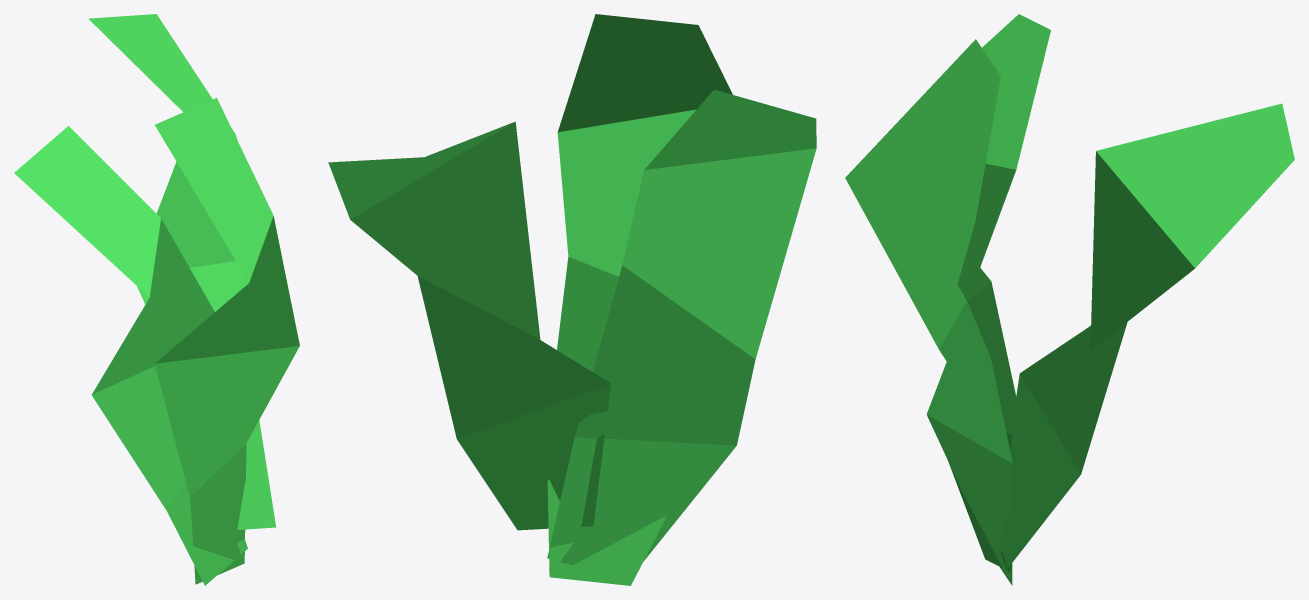
Rendered from Grass1.glb.
3 views of the same model, side by side, from view 1: azimuth 30°, elevation 25°; view 2: azimuth 150°, elevation 25°; view 3: azimuth 270°, elevation 25° (orthographic). The views are drawn at different scales.
Visible parts, largest first — view 1: Grid.005, Grid.003, Grid.004; view 2: Grid.003, Grid.004, Grid.005; view 3: Grid.004, Grid.005, Grid.003.
Boxes of the visible parts, <box> form: Grid.005: <box>154,98,299,584</box>; Grid.003: <box>14,126,247,585</box>; Grid.004: <box>88,14,276,529</box>; Grid.003: <box>547,89,816,565</box>; Grid.004: <box>328,121,610,530</box>; Grid.005: <box>547,14,732,585</box>; Grid.004: <box>1000,103,1294,568</box>; Grid.005: <box>845,39,1012,585</box>; Grid.003: <box>948,14,1050,571</box>.
Size of the model in its own units: 0.0881 by 0.1313 by 0.1086.
